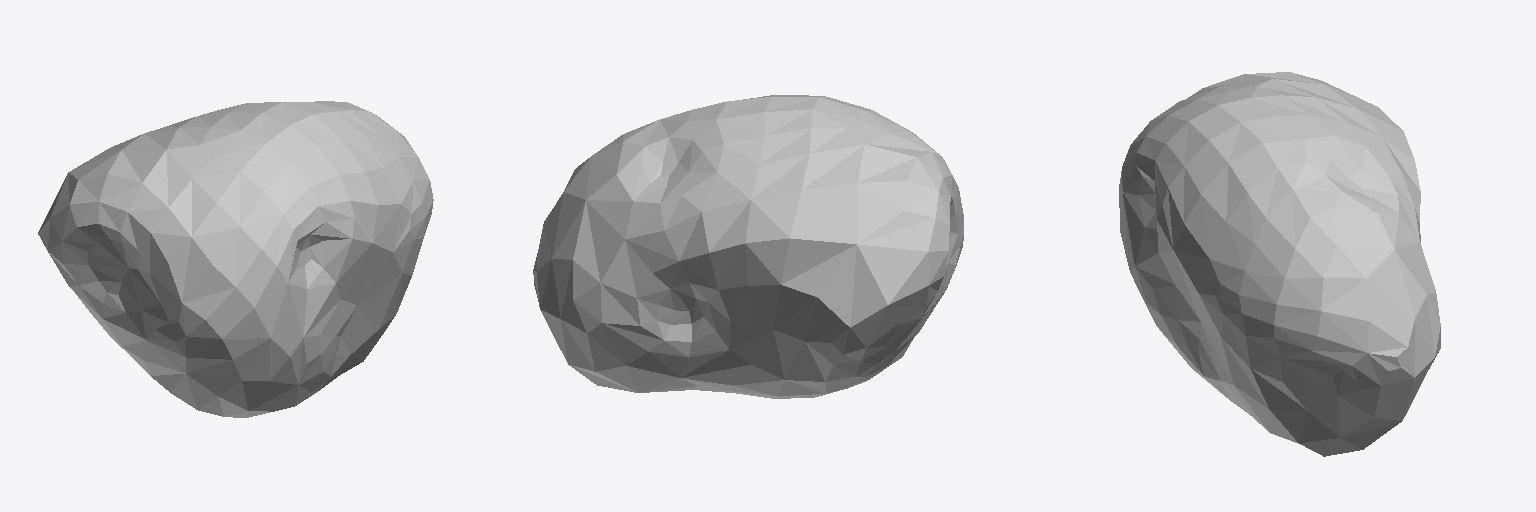
The model's file is asteroid_02.obj.
3 renders of one model, left to right at view 1: azimuth 30°, elevation 25°; view 2: azimuth 150°, elevation 25°; view 3: azimuth 270°, elevation 25°, orthographic.
Visible parts, largest first — view 1: prop_asteroid_02_Untitled; view 2: prop_asteroid_02_Untitled; view 3: prop_asteroid_02_Untitled.
Part boxes in pixels (left/top/right/bottom): prop_asteroid_02_Untitled: left=38, top=101, right=433, bottom=417; prop_asteroid_02_Untitled: left=533, top=95, right=963, bottom=398; prop_asteroid_02_Untitled: left=1119, top=72, right=1440, bottom=456.
Size of the model in its own units: 1.25 by 0.9178 by 0.9348.